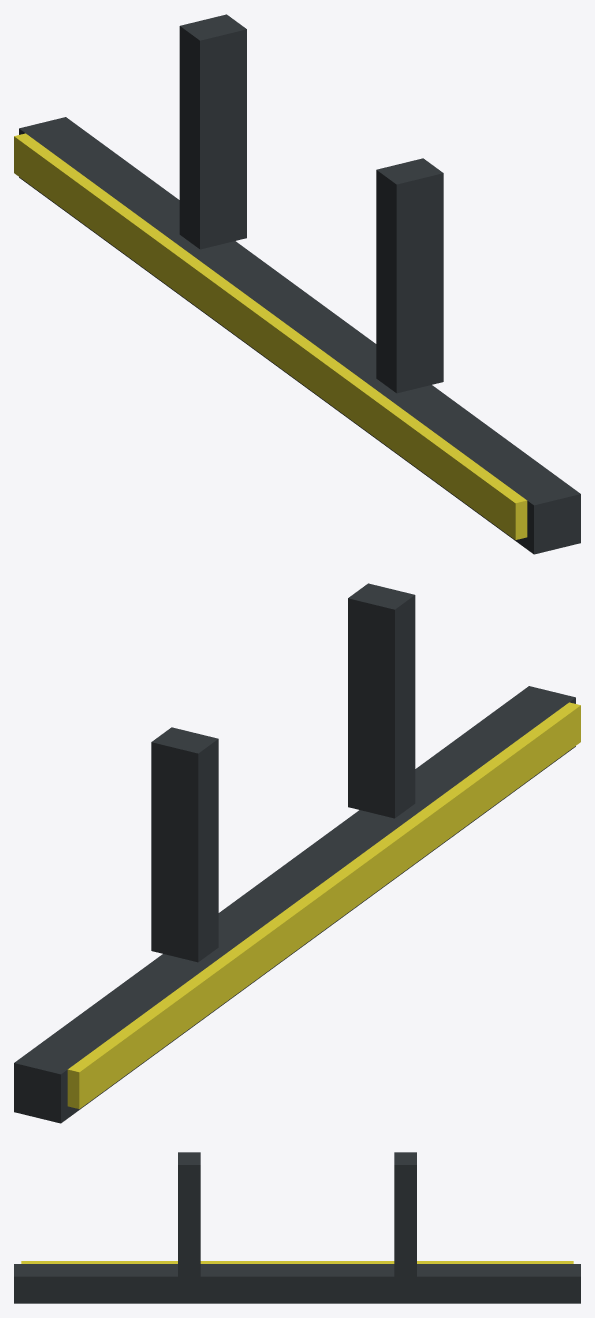
Rendered from semi_trailer_underrun.glb.
3 renders of one model, top to bottom at view 1: azimuth 30°, elevation 25°; view 2: azimuth 150°, elevation 25°; view 3: azimuth 270°, elevation 25°, orthographic. The views are drawn at different scales.
Parts seen in each view (by area): view 1: body:compound; view 2: body:compound; view 3: body:compound.
Part boxes in pixels (x1=…): body:compound: x1=14, y1=14, x2=580, y2=554; body:compound: x1=14, y1=583, x2=580, y2=1123; body:compound: x1=14, y1=1152, x2=580, y2=1303.
Bounding box in the file's own units: 0.1875 × 0.6562 × 2.38.
